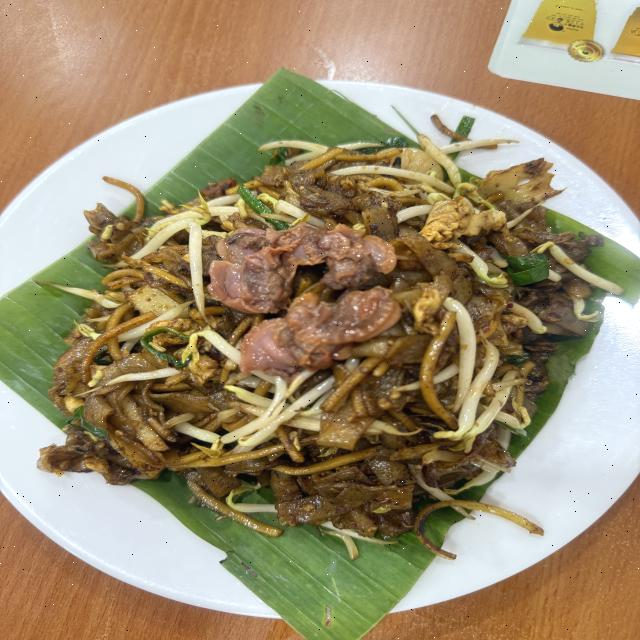Char Kway Teow: (30, 121, 620, 575)
